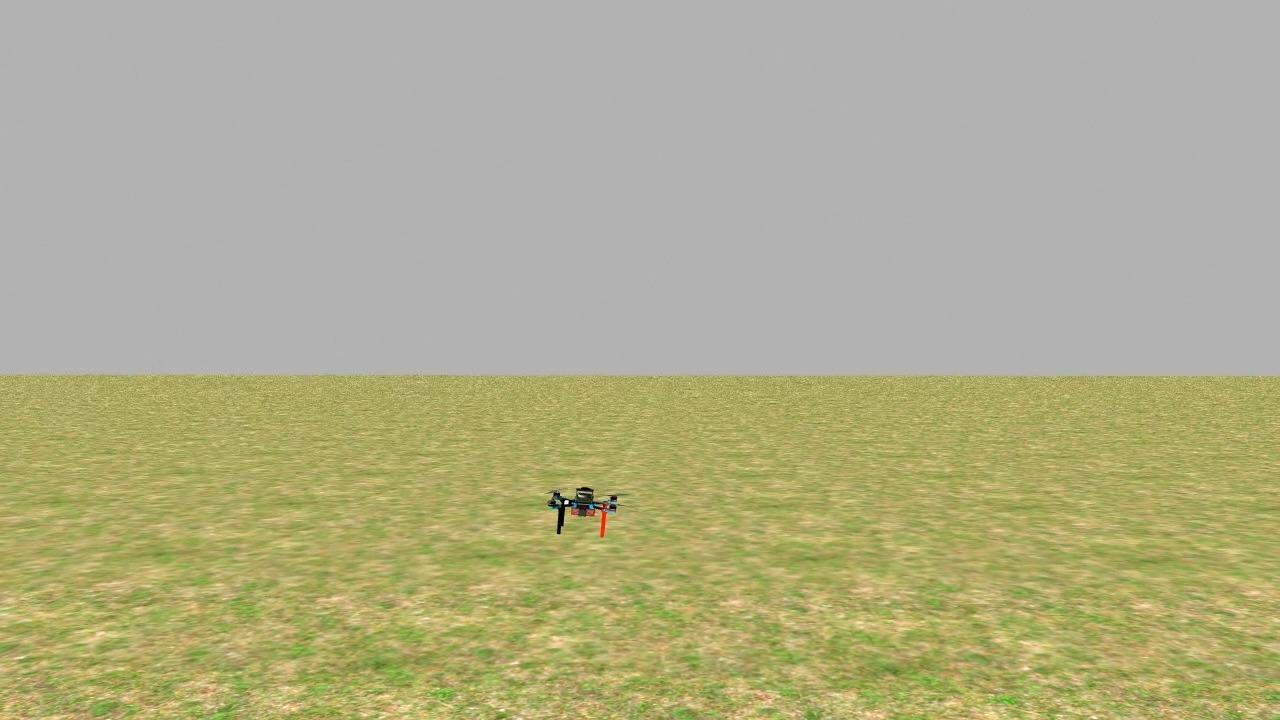UAV: (534, 473, 634, 548)
